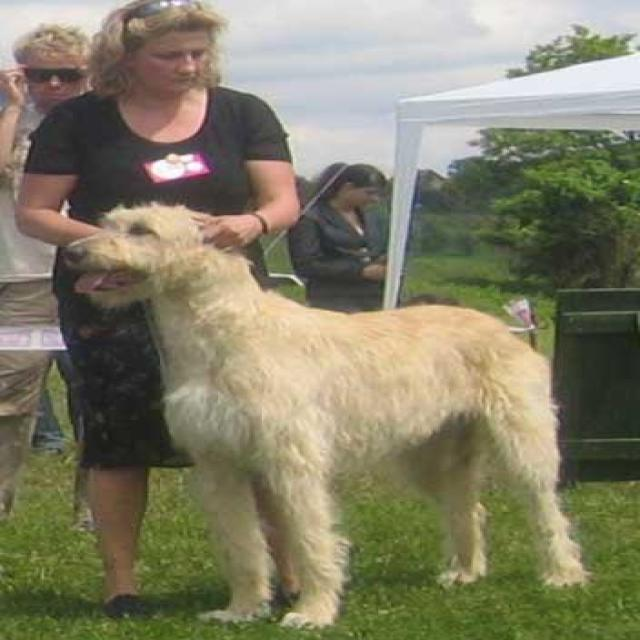irish_wolfhound: (60, 201, 587, 627)
